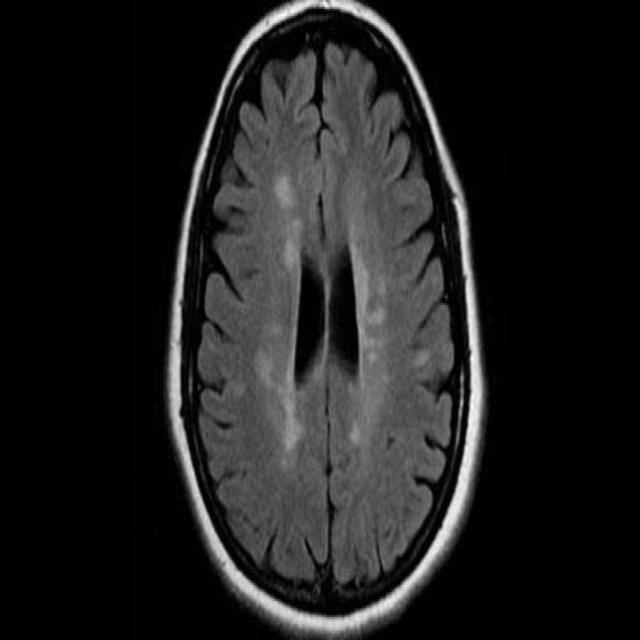no-tumor: (245, 129, 400, 467)
